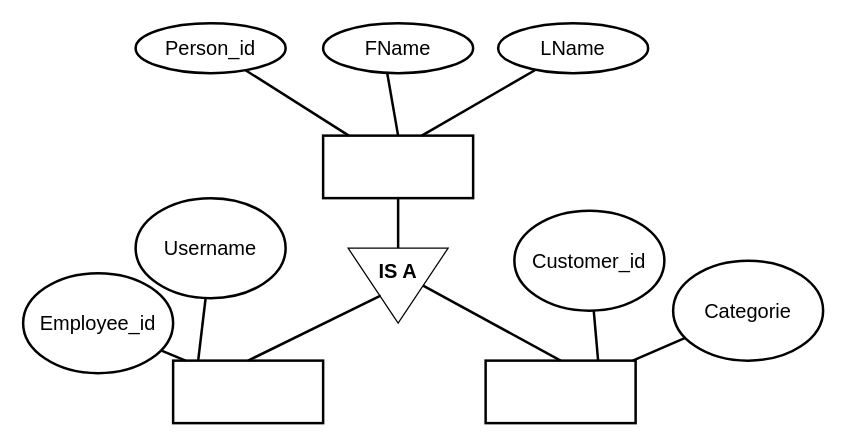
Image size: 845x445. Some labels were removed from this diagram. Here are the shapes that lost their labels. From the top down, the box of each, then its label:
(321, 134, 474, 199): PERSON
(171, 359, 324, 424): EMPLOYEE
(484, 359, 636, 424): CUSTOMER
